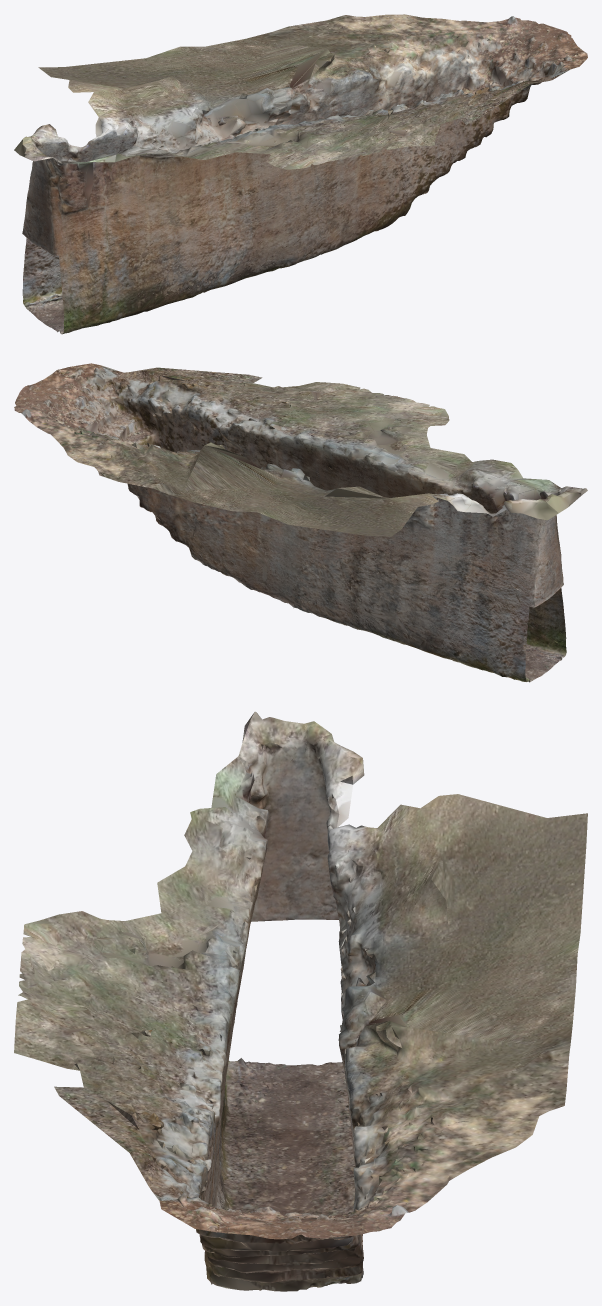
Rendered from Tafos11_Entrance.fbx.
The picture shows the model from 3 angles, top to bottom: view 1: azimuth 30°, elevation 25°; view 2: azimuth 150°, elevation 25°; view 3: azimuth 270°, elevation 25°; orthographic projection. The views are drawn at different scales.
Parts seen in each view (by area): view 1: Tafos11_Entrance; view 2: Tafos11_Entrance; view 3: Tafos11_Entrance.
Boxes of the visible parts, x1=… form: Tafos11_Entrance: x1=14, y1=14, x2=587, y2=334; Tafos11_Entrance: x1=14, y1=363, x2=587, y2=682; Tafos11_Entrance: x1=14, y1=711, x2=587, y2=1291.
Size of the model in its own units: 950 by 474 by 303.
